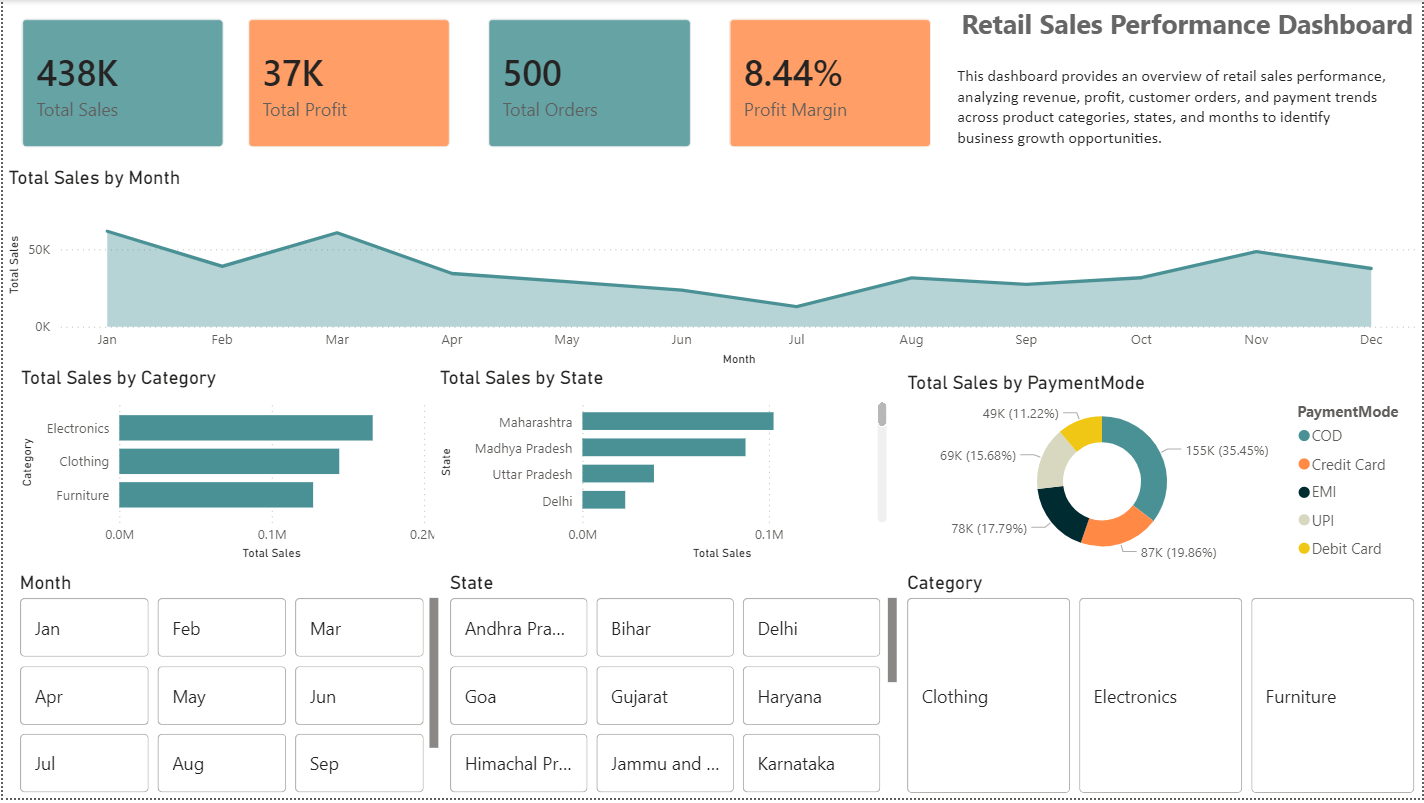

Layout of this report page (visuals, bound fields, positions):
{"tool":"powerbi","page":{"name":"Executive Summary","canvas":[1280,720],"ordinal":0},"visuals":[{"type":"cardVisual","fields":{"Data":["Sales_Details.Total Sales"]},"box":[0,0,216.4,150.4],"z":0},{"type":"cardVisual","fields":{"Data":["Sales_Details.Total Profit"]},"box":[204.2,0,216.4,150.4],"z":1000},{"type":"cardVisual","fields":{"Data":["Sales_Details.Total Orders"]},"box":[420.7,0,217.7,150.4],"z":2000},{"type":"cardVisual","fields":{"Data":["Sales_Details.Profit Margin"]},"box":[638.3,0,216.4,150.4],"z":3000},{"type":"areaChart","fields":{"Category":["Date_Table.Month"],"Y":["Sales_Details.Total Sales"]},"box":[0,150.4,1280.3,184.6],"z":4000},{"type":"clusteredBarChart","fields":{"Category":["Sales_Details.Category"],"Y":["Sales_Details.Total Sales"]},"box":[11,330.2,387.6,179.8],"z":5000},{"type":"clusteredBarChart","fields":{"Y":["Sales_Details.Total Sales"],"Category":["Orders_Data.State"]},"box":[389.3,330,413,179.8],"z":6000},{"type":"donutChart","fields":{"Category":["Sales_Details.PaymentMode"],"Y":["Sales_Details.Total Sales"]},"box":[810.7,335.1,469.6,179.8],"z":7000},{"type":"advancedSlicerVisual","fields":{"Values":["Date_Table.Month"]},"box":[9.8,514.8,387.6,205.4],"z":8000},{"type":"advancedSlicerVisual","fields":{"Values":["Orders_Data.State"]},"box":[397.4,514.8,413.3,205.4],"z":9000},{"type":"advancedSlicerVisual","fields":{"Values":["Sales_Details.Category"]},"box":[810.7,514.8,469.6,205.4],"z":10000},{"type":"textbox","box":[856,0,424.3,74.6],"z":11000},{"type":"textbox","box":[856,53.8,424.3,96.6],"z":12000}]}

Visuals, with their boxes in screenshot pixels (x1, y1, x2, y2), scaled from the page's 1280x720 canvas onto the 1424x803 screenshot:
cardVisual - Sales_Details.Total Sales: x1=0 y1=0 x2=241 y2=168
cardVisual - Sales_Details.Total Profit: x1=227 y1=0 x2=468 y2=168
cardVisual - Sales_Details.Total Orders: x1=468 y1=0 x2=710 y2=168
cardVisual - Sales_Details.Profit Margin: x1=710 y1=0 x2=951 y2=168
areaChart - Date_Table.Month x Sales_Details.Total Sales: x1=0 y1=168 x2=1423 y2=374
clusteredBarChart - Sales_Details.Category x Sales_Details.Total Sales: x1=12 y1=368 x2=443 y2=569
clusteredBarChart - Sales_Details.Total Sales x Orders_Data.State: x1=433 y1=368 x2=893 y2=569
donutChart - Sales_Details.PaymentMode x Sales_Details.Total Sales: x1=902 y1=374 x2=1423 y2=574
advancedSlicerVisual - Date_Table.Month: x1=11 y1=574 x2=442 y2=802
advancedSlicerVisual - Orders_Data.State: x1=442 y1=574 x2=902 y2=802
advancedSlicerVisual - Sales_Details.Category: x1=902 y1=574 x2=1423 y2=802
textbox: x1=952 y1=0 x2=1423 y2=83
textbox: x1=952 y1=60 x2=1423 y2=168
